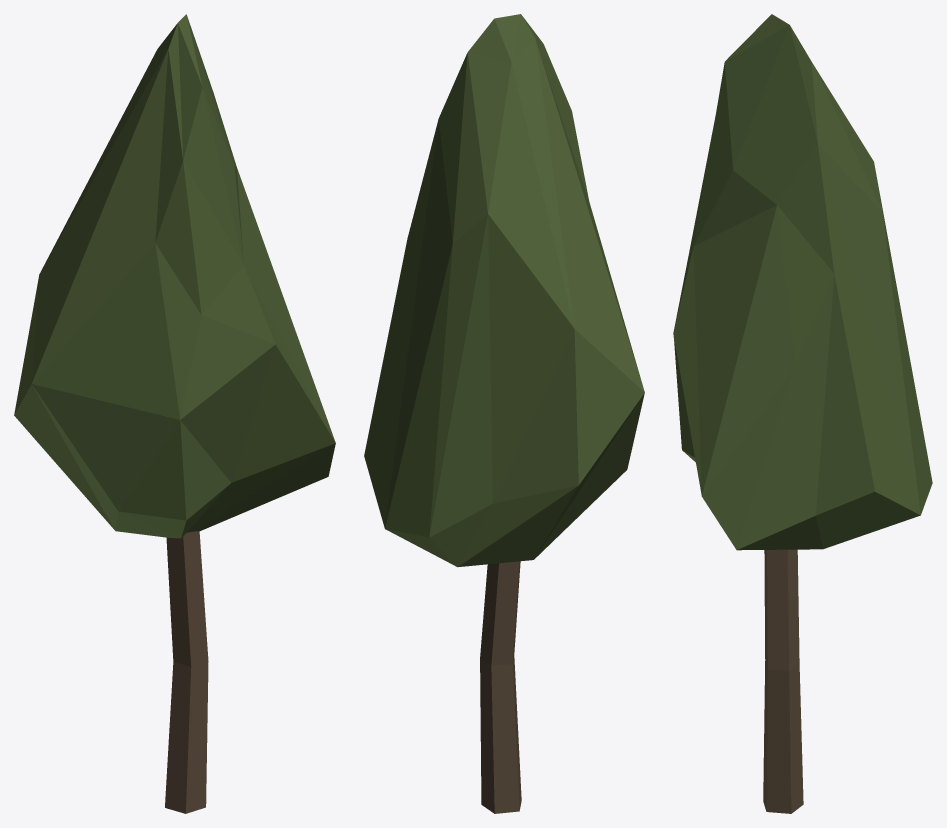
File: tree_028.fbx
3 views of the same model, side by side, from view 1: azimuth 30°, elevation 25°; view 2: azimuth 150°, elevation 25°; view 3: azimuth 270°, elevation 25° (orthographic).
Parts seen in each view (by area): view 1: tree_028; view 2: tree_028; view 3: tree_028.
Part boxes in pixels (box(x1,y1,x2,y2)): tree_028: box(14, 14, 335, 813); tree_028: box(364, 14, 644, 813); tree_028: box(673, 14, 932, 813).
Size of the model in its own units: 0.6053 by 1.7 by 0.5097.
1 material, 1 textured.
